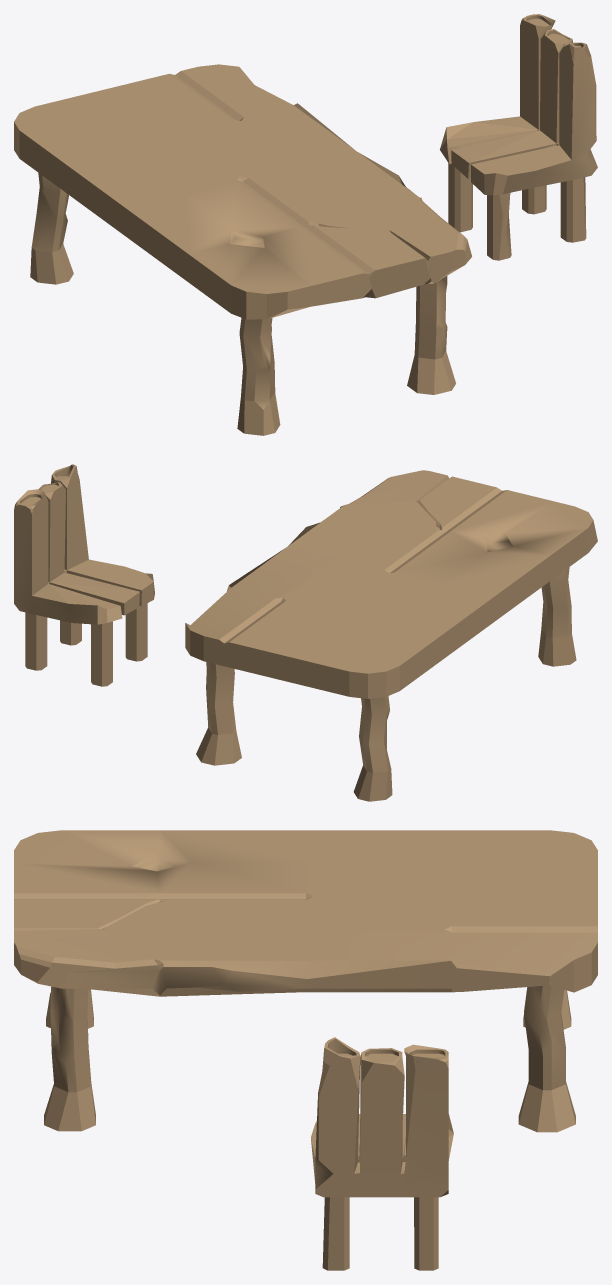
The model's file is tablechair.fbx.
3 renders of one model, top to bottom at view 1: azimuth 30°, elevation 25°; view 2: azimuth 150°, elevation 25°; view 3: azimuth 270°, elevation 25°, orthographic. The views are drawn at different scales.
Parts seen in each view (by area): view 1: Cube.013, Wooden_Chair; view 2: Cube.013, Wooden_Chair; view 3: Cube.013, Wooden_Chair.
Part boxes in pixels (left/top/right/bottom): Cube.013: left=14, top=64, right=471, bottom=435; Wooden_Chair: left=440, top=14, right=597, bottom=260; Cube.013: left=185, top=470, right=597, bottom=801; Wooden_Chair: left=14, top=464, right=154, bottom=686; Cube.013: left=14, top=830, right=597, bottom=1132; Wooden_Chair: left=311, top=1037, right=453, bottom=1270.
Bounding box in the file's own units: 57.53 × 22.56 × 52.88.
